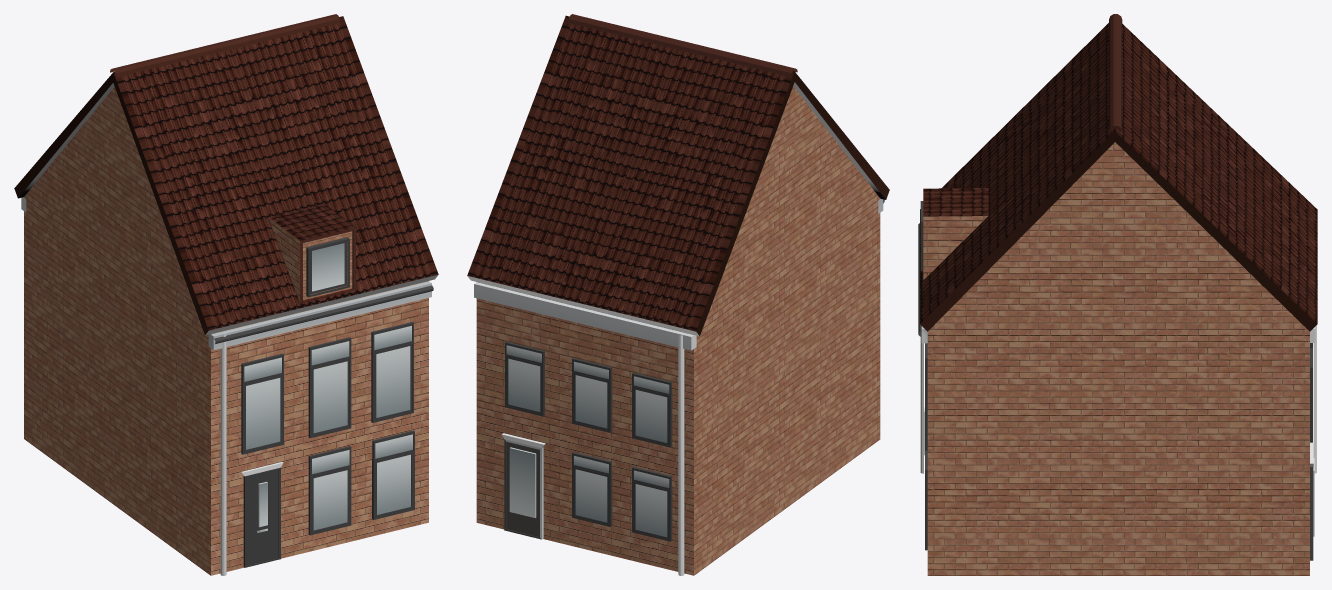
Rendered from It_Tek_14.fbx.
3 views of the same model, side by side, from view 1: azimuth 30°, elevation 25°; view 2: azimuth 150°, elevation 25°; view 3: azimuth 270°, elevation 25° (orthographic). The views are drawn at different scales.
Parts seen in each view (by area): view 1: It_Tek_14; view 2: It_Tek_14; view 3: It_Tek_14.
Boxes of the visible parts, bbox=[...] form: It_Tek_14: bbox=[14, 14, 438, 575]; It_Tek_14: bbox=[467, 14, 889, 575]; It_Tek_14: bbox=[918, 14, 1317, 575].
Size of the model in its own units: 637 by 1167 by 937.
